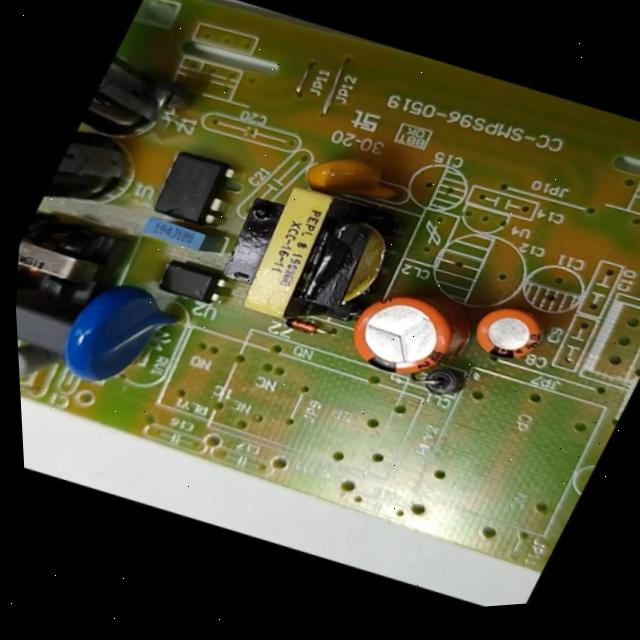Cap1: (325, 267, 487, 403)
Cap2: (455, 291, 562, 379)
Cap3: (27, 112, 158, 245)
Cap4: (75, 38, 198, 154)
MOSFET: (135, 133, 255, 243)
Mov: (39, 259, 207, 415)
Resistor: (17, 332, 59, 395)
Transformer: (185, 150, 427, 364), (11, 202, 137, 334)
